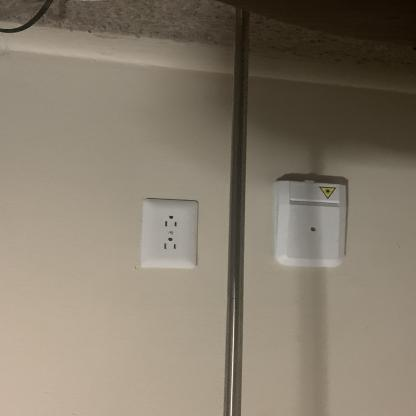OUTLET: (139, 200, 197, 269)
